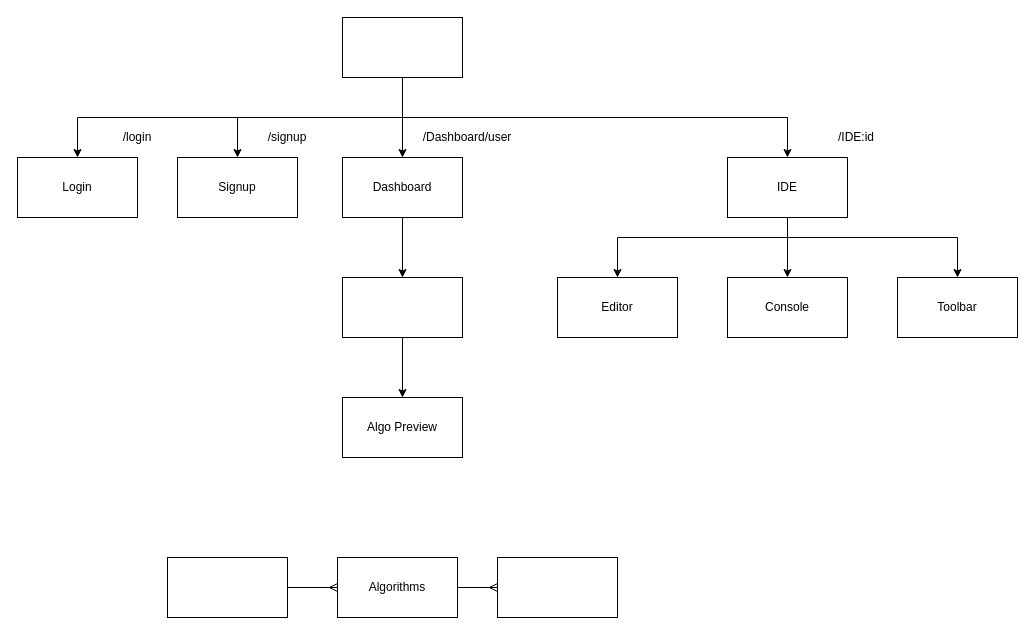
Image size: 1035x635. Some labels were removed from this diagram. Each missing label, with the box of its shape:
Algo List: (342, 276, 462, 338)
App: (342, 16, 462, 78)
Users: (166, 556, 288, 618)
Versions: (496, 556, 618, 618)
